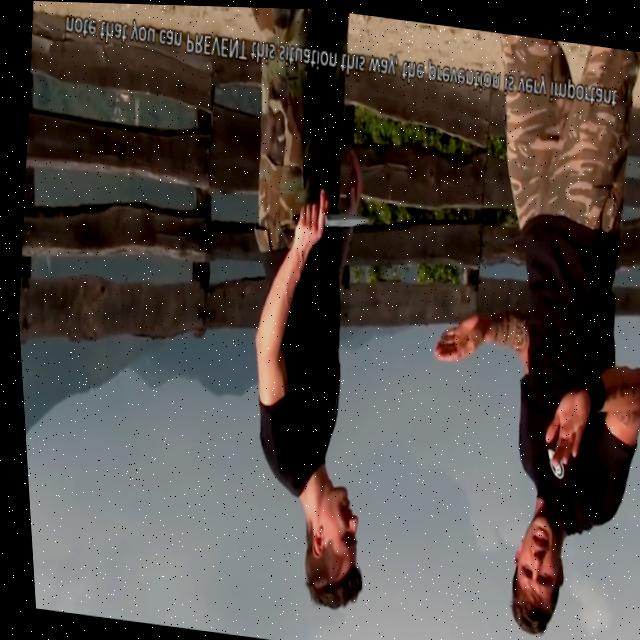knife: (320, 206, 367, 231)
